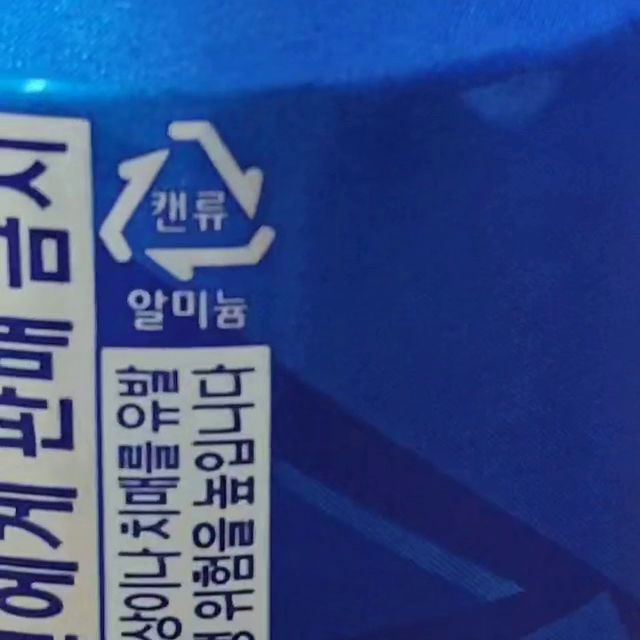Can: (100, 123, 277, 281)
